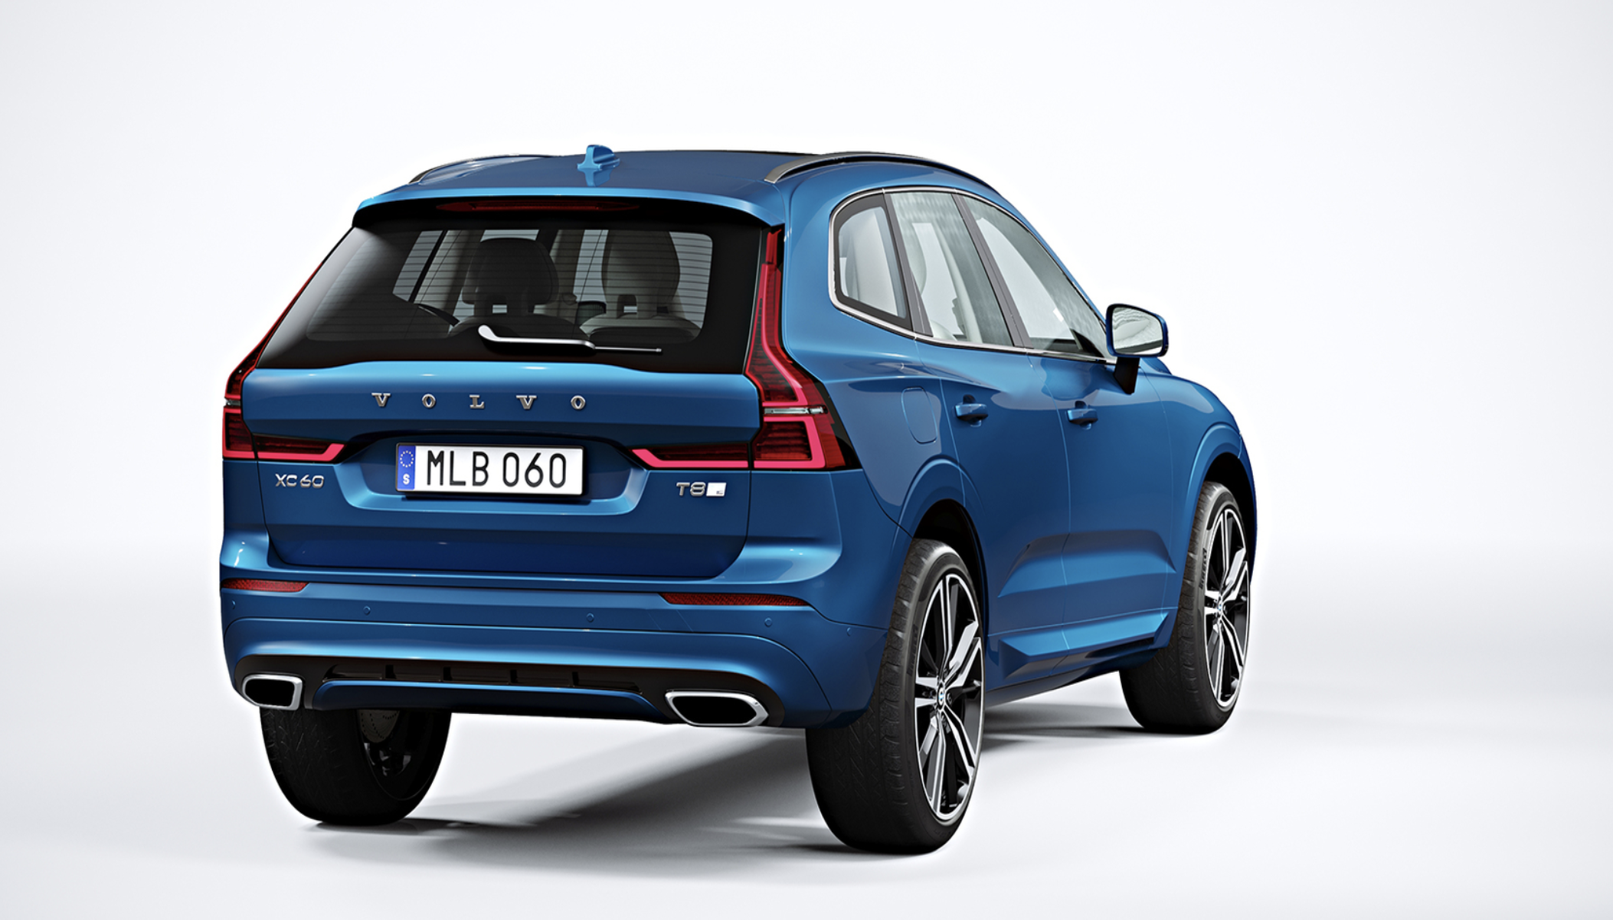hatch: (898, 384, 945, 448)
